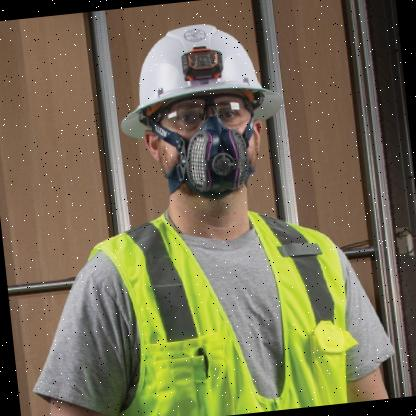capacete: (109, 10, 291, 138)
oculos: (148, 92, 262, 138)
